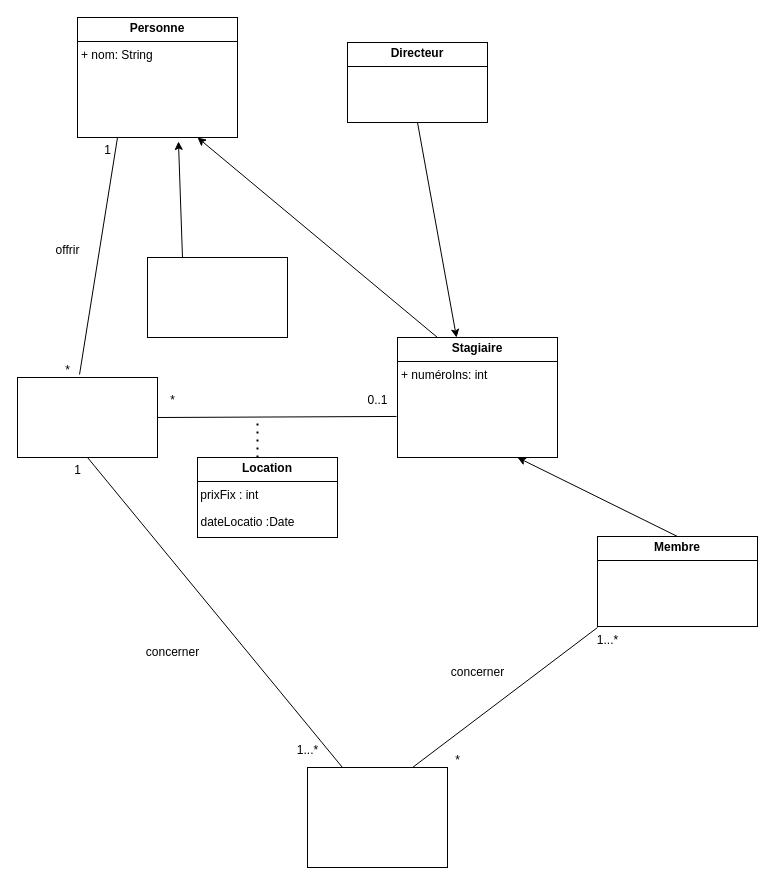
The diagram is 775 pixels wide and 885 high, and some of its shapes have lost their labels. Each missing label, with the centre of its shape:
"Librairie + adresse : String" goes at [217,297].
"Livre ISBN : int titre : String genre : String" goes at [87,417].
"Séance dateRéalisation : Date heurDébut : date durée : Date" goes at [377,817].
